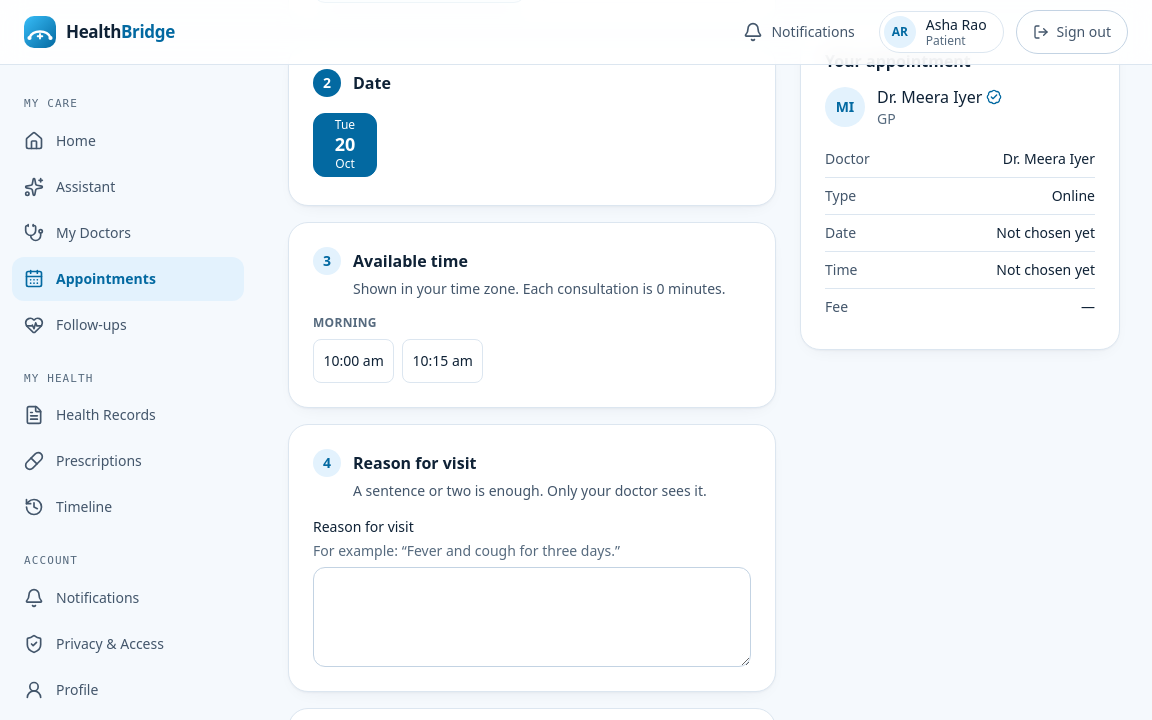
it: booking › a time taken meanwhile: explains, refreshes the free times and clears the choice
(page scrolled)
Click the button "10:00 am" at (354, 361), box [313, 339, 394, 383]
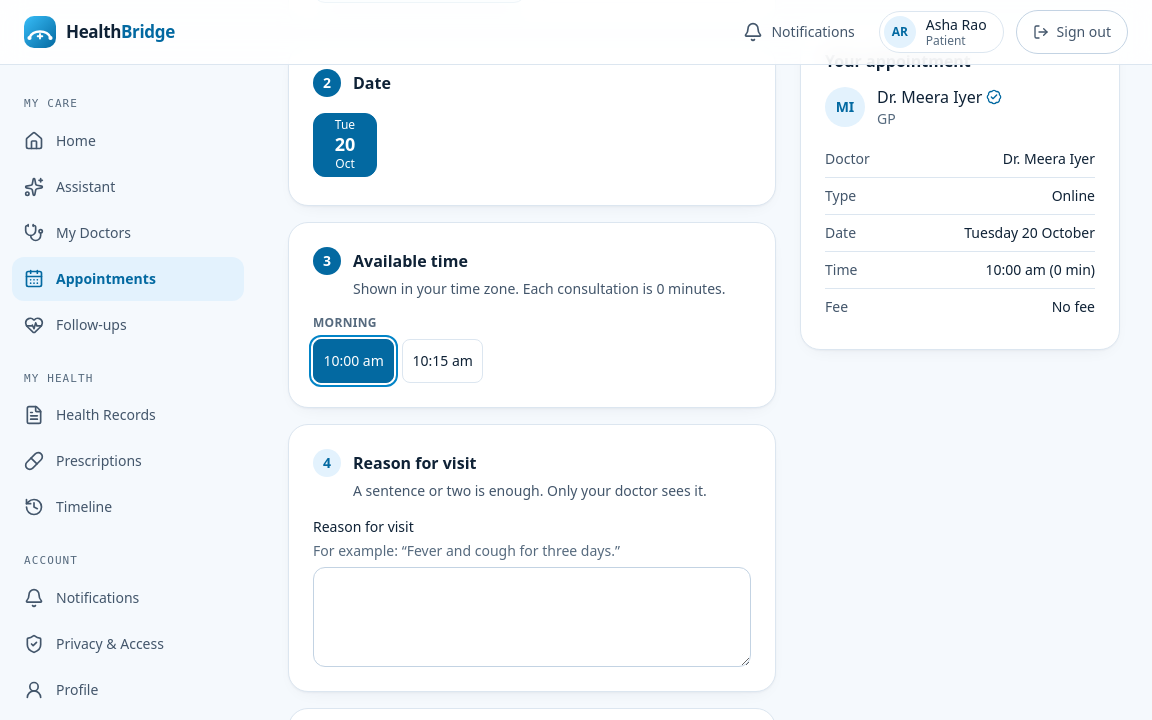
Type "Follow-up on blood sugar" into the text box labelled "Reason for visit" at (532, 617), box [313, 567, 751, 667]
(page scrolled)
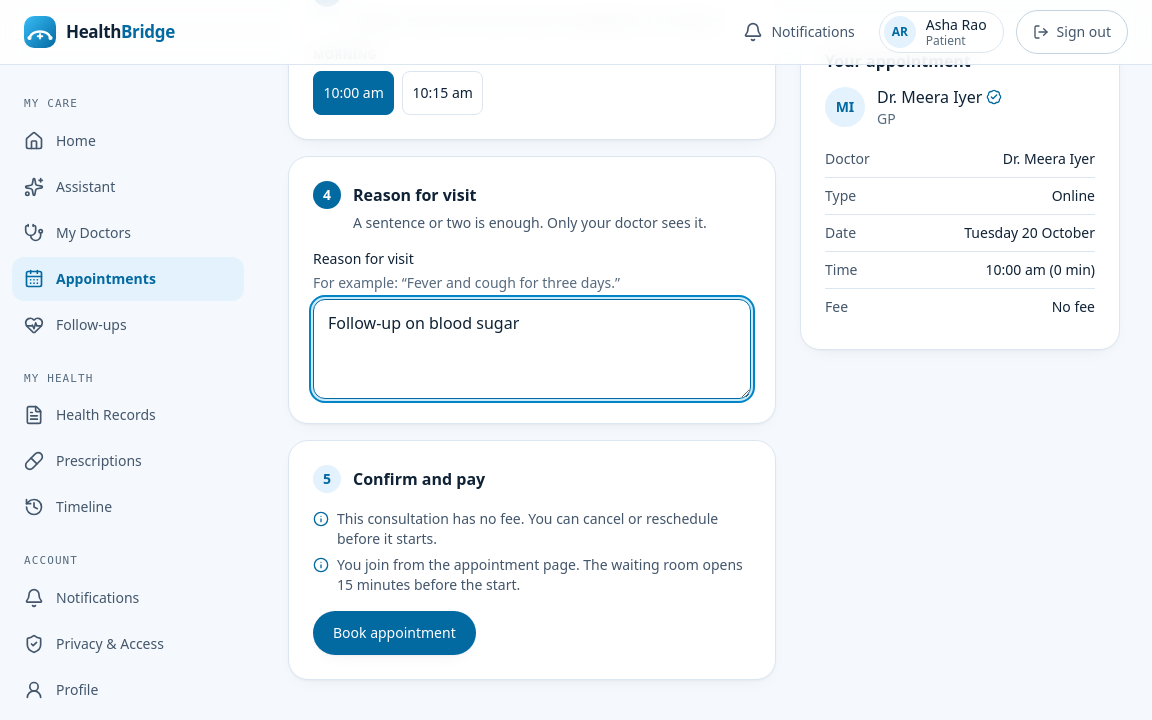
Click the button "Book appointment" at (394, 633), box [313, 611, 476, 655]
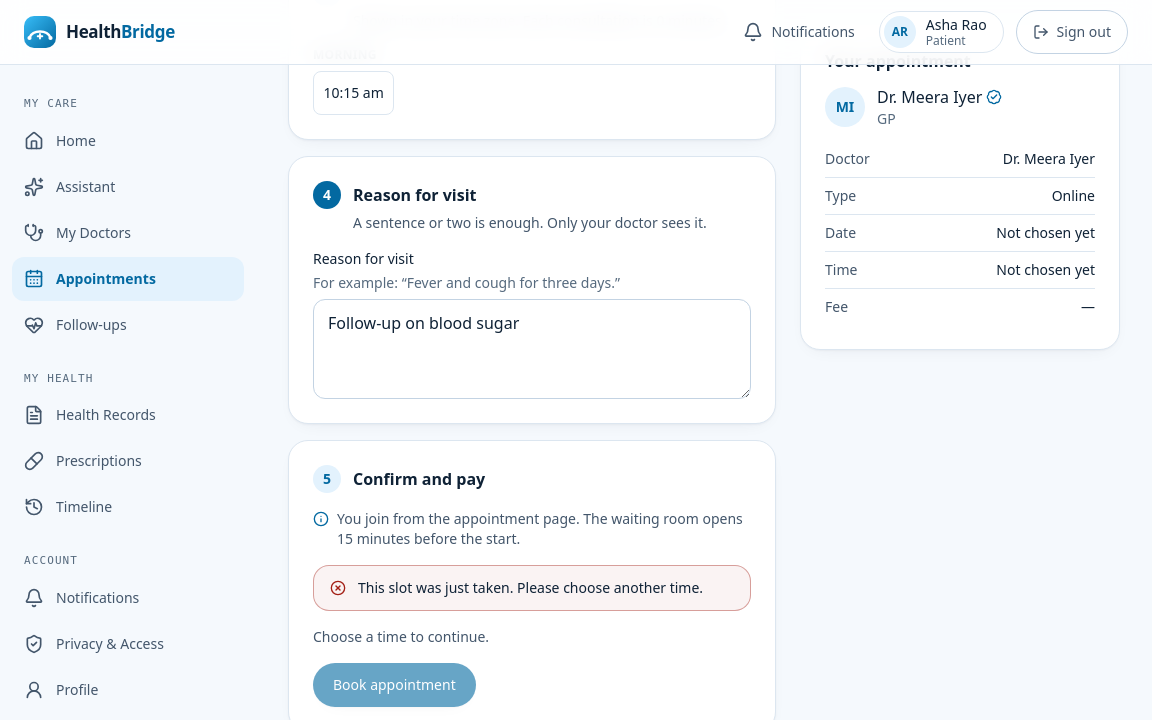
Now the text "This slot was just taken. Please choose another time." is shown, box [358, 578, 734, 598]
Now the number of buttons "10:15 am" is 1, box [313, 71, 394, 115]
Now the text "Choose a time to continue." is shown, box [313, 627, 489, 646]
